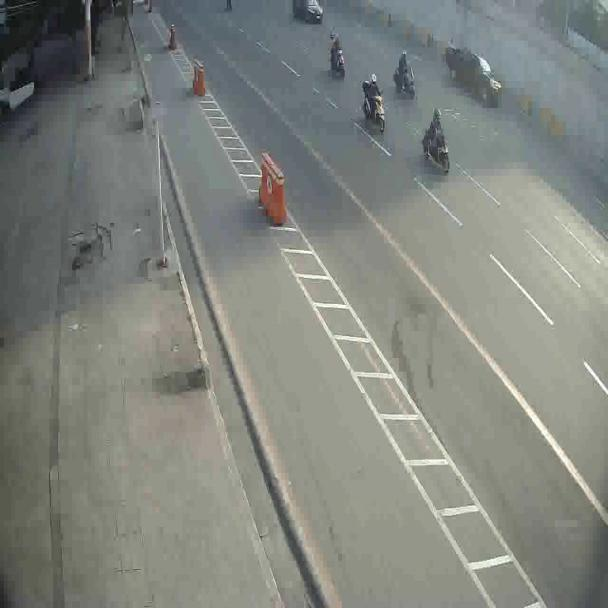motorcyclist: (420, 110, 450, 171), (360, 75, 386, 135), (392, 48, 416, 101), (328, 34, 346, 80)
vehicle: (440, 39, 504, 105), (293, 1, 325, 24)
